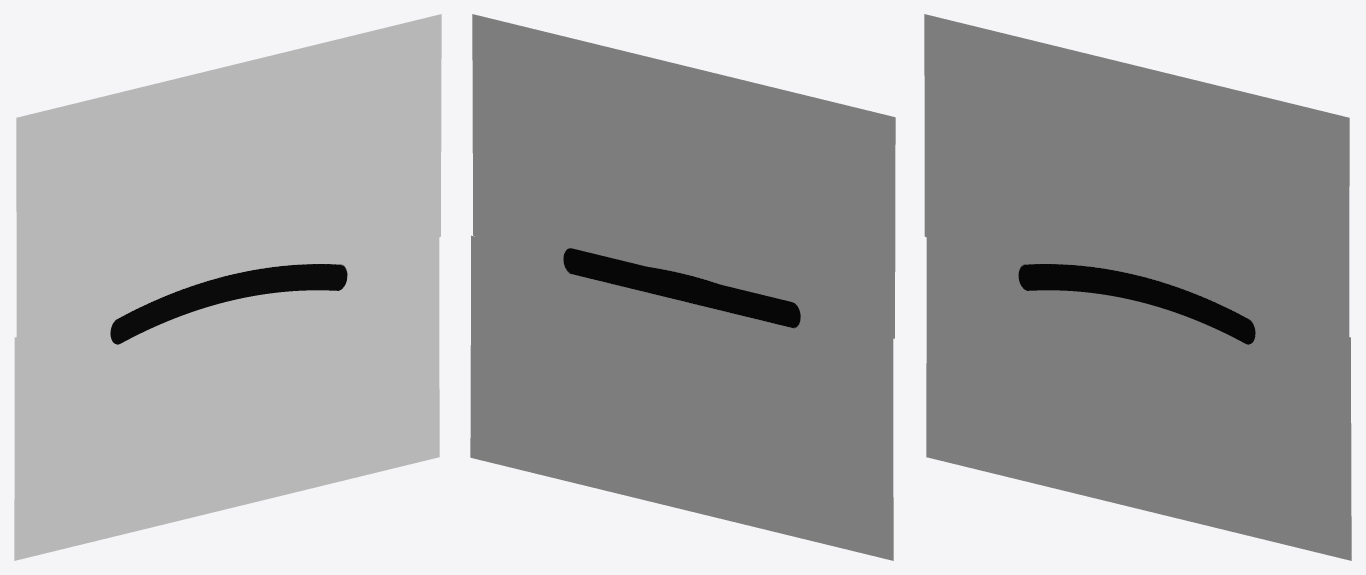
Rendered from Lips_example.fbx.
The picture shows the model from 3 angles, left to right: view 1: azimuth 30°, elevation 25°; view 2: azimuth 150°, elevation 25°; view 3: azimuth 330°, elevation 25°; orthographic projection.
Parts seen in each view (by area): view 1: Lips_d; view 2: Lips_d; view 3: Lips_d.
Boxes of the visible parts, left/top/right/bottom form: Lips_d: left=14, top=14, right=441, bottom=560; Lips_d: left=470, top=14, right=895, bottom=560; Lips_d: left=924, top=14, right=1351, bottom=560.
Bounding box in the file's own units: 12826 × 12809 × 100.
